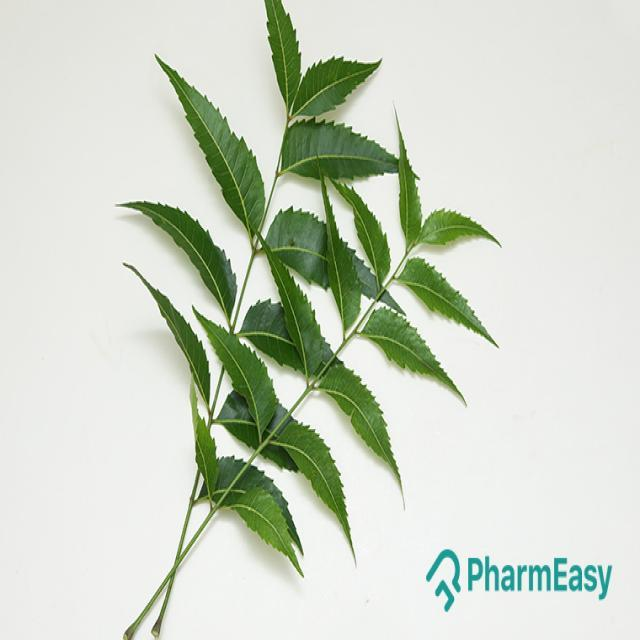Wet: (98, 0, 562, 552)
